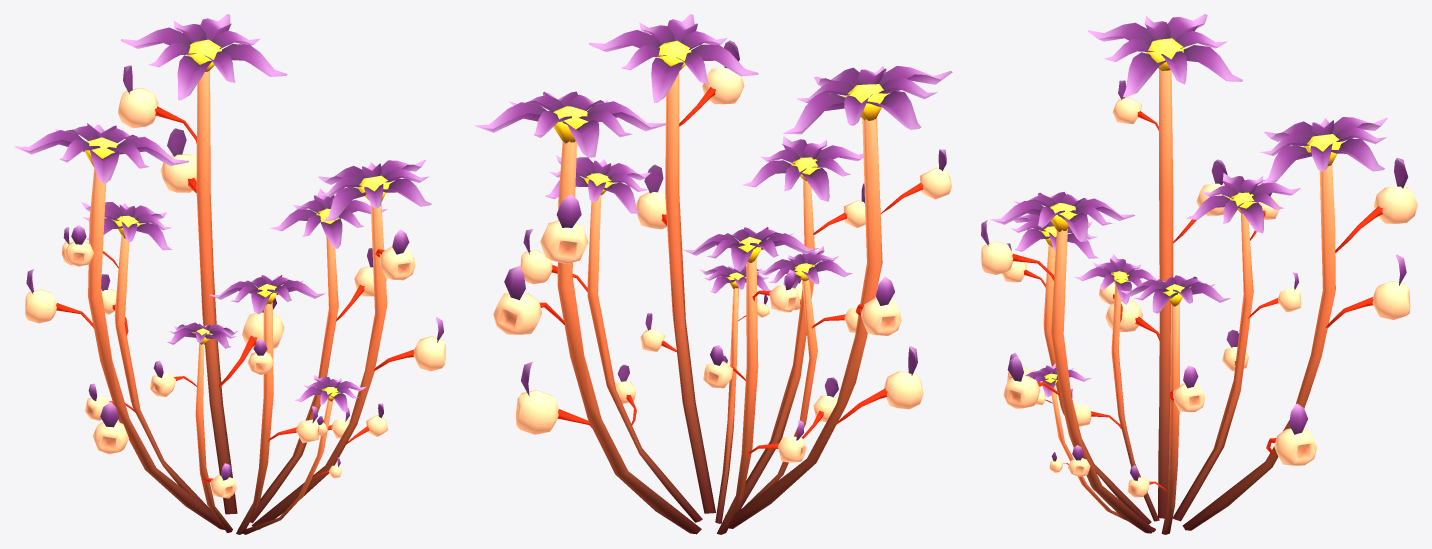
Rendered from all_seeing_berry.glb.
The picture shows the model from 3 angles, left to right: view 1: azimuth 30°, elevation 25°; view 2: azimuth 150°, elevation 25°; view 3: azimuth 270°, elevation 25°; orthographic projection. The views are drawn at different scales.
Parts seen in each view (by area): view 1: All-Seeing Berry; view 2: All-Seeing Berry; view 3: All-Seeing Berry.
Part boxes in pixels (left/top/right/bottom): All-Seeing Berry: left=14, top=14, right=445, bottom=534; All-Seeing Berry: left=474, top=14, right=952, bottom=534; All-Seeing Berry: left=981, top=14, right=1417, bottom=534.
Size of the model in its own units: 1.3 by 1.47 by 1.36.
Materials: 1 (1 with a texture image).
